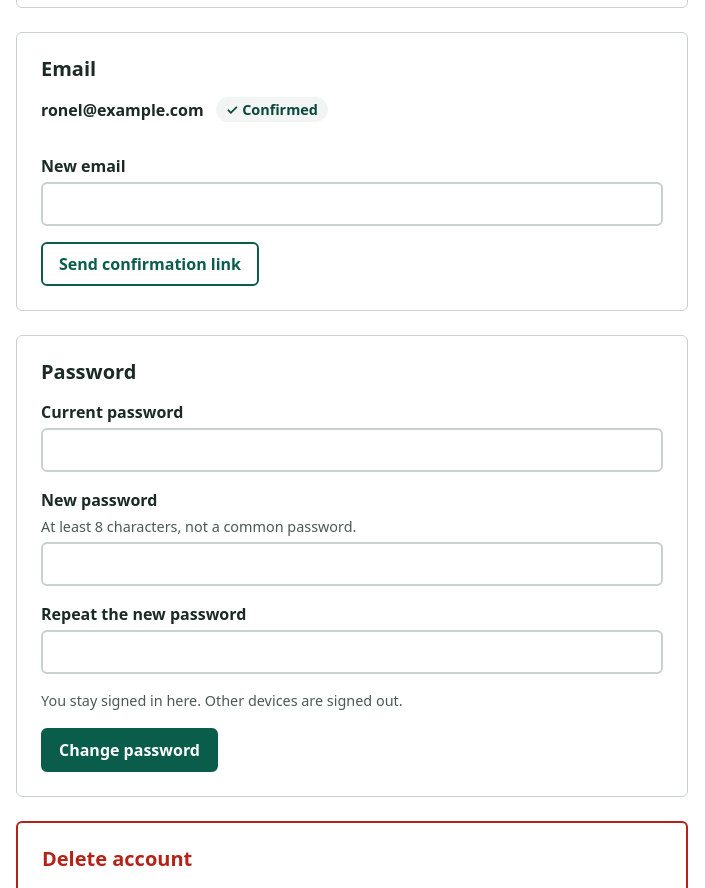
it: Profile page: password › sends the three passwords, empties the form and says the password is changed
(page scrolled)
Step 1. Type "old-password" into the password field labelled "Current password" → x=352, y=450, box [41,428,663,472]
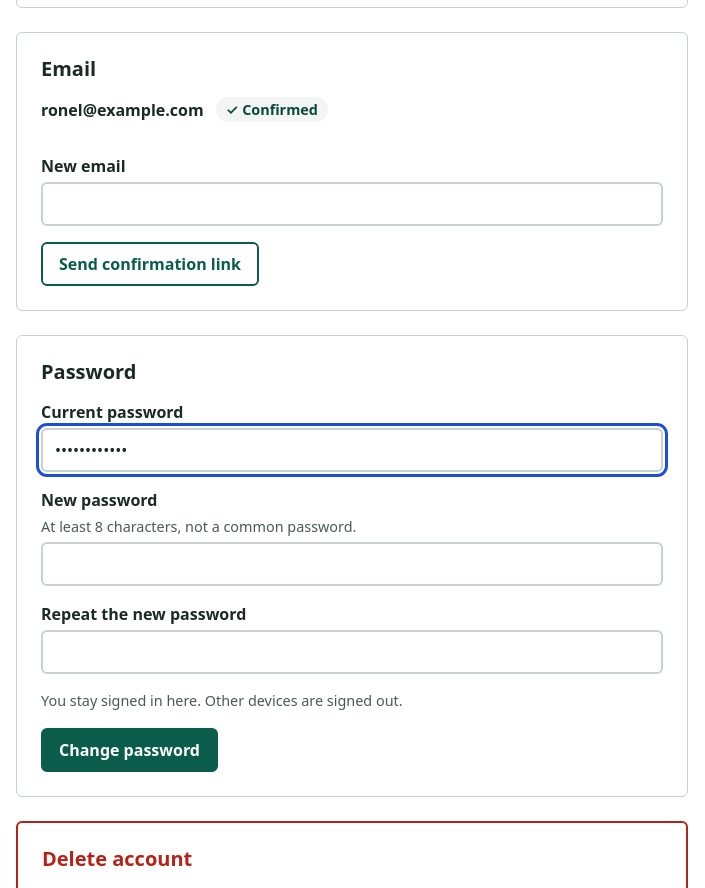
Step 2. Type "a-long-password" into the password field labelled "New password" → x=352, y=564, box [41,542,663,586]
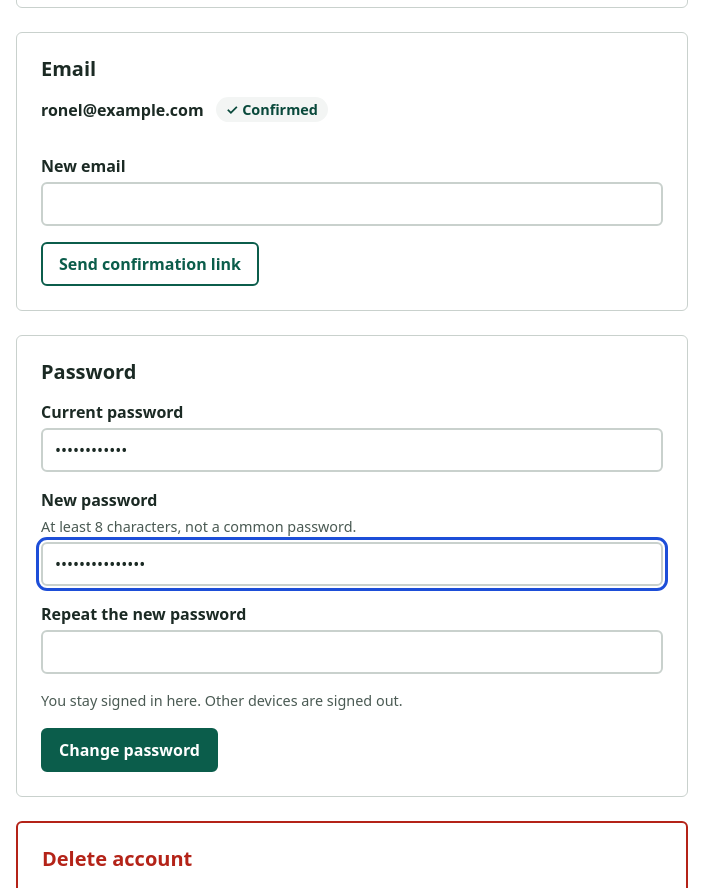
Step 3. Type "a-long-password" into the password field labelled "Repeat the new password" → x=352, y=652, box [41,630,663,674]
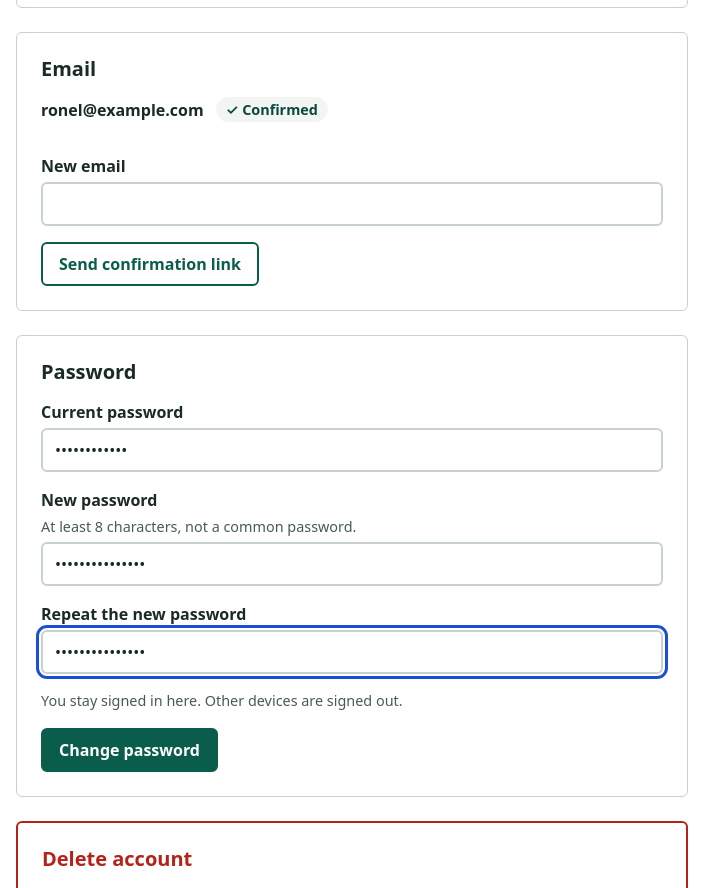
Step 4. Click the button "Change password" → x=130, y=750, box [41,728,218,772]
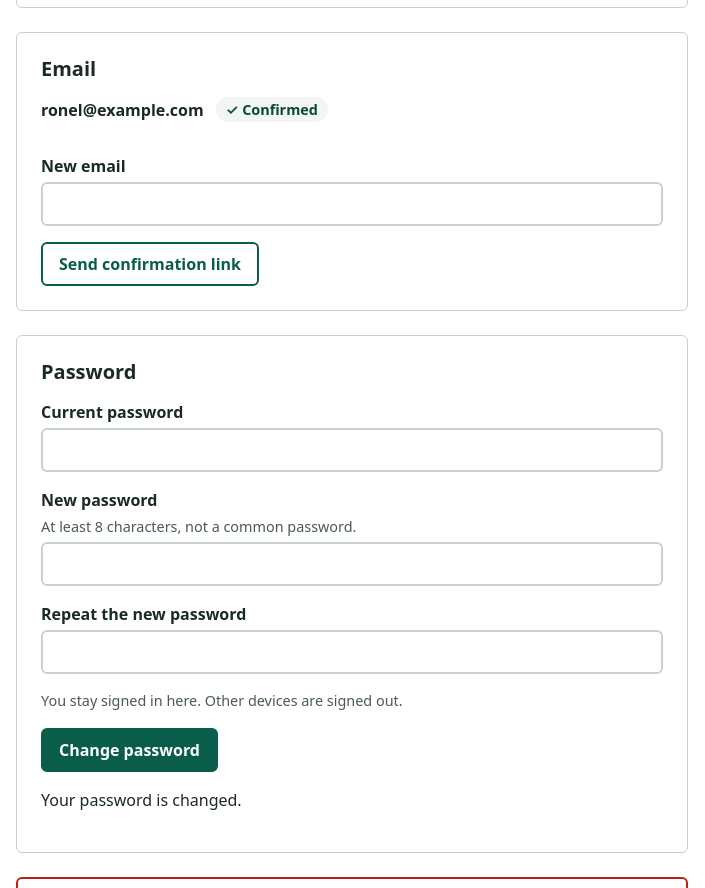
Check: the text "Your password is changed." is shown, box [41,789,242,811]
Check: the password field labelled "Current password" is empty, box [41,428,663,472]
